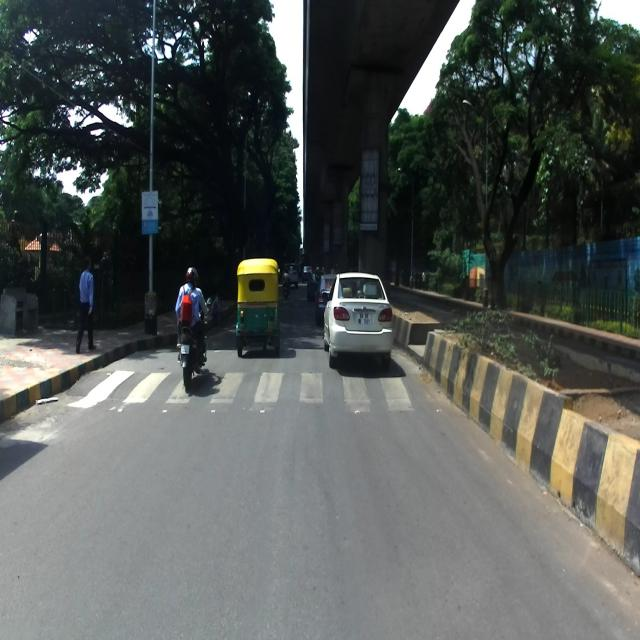car: (321, 272, 394, 368)
motorcycle: (176, 294, 213, 390)
